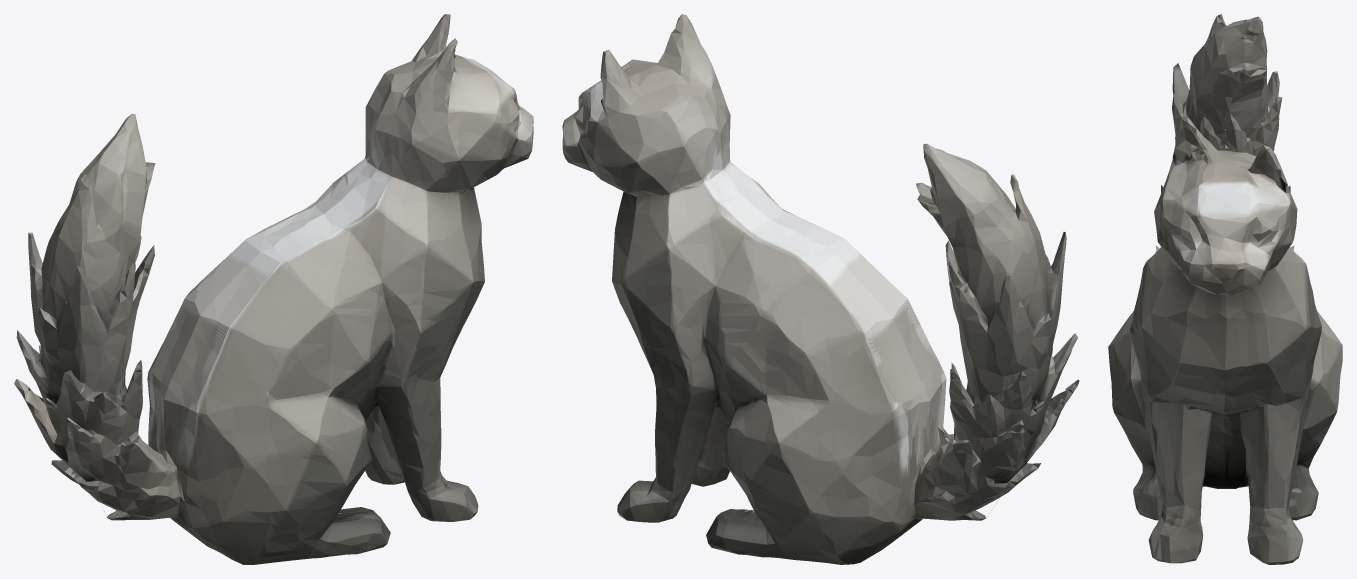
Rendered from 491f822a-da77-4a20-881f-afc021161837.glb.
3 views of the same model, side by side, from view 1: azimuth 30°, elevation 25°; view 2: azimuth 150°, elevation 25°; view 3: azimuth 270°, elevation 25° (orthographic). The views are drawn at different scales.
Parts seen in each view (by area): view 1: tmp_578la47.ply; view 2: tmp_578la47.ply; view 3: tmp_578la47.ply.
Boxes of the visible parts, x1,y1,x2,y2 form: tmp_578la47.ply: (14, 14, 533, 564); tmp_578la47.ply: (562, 14, 1079, 564); tmp_578la47.ply: (1108, 14, 1342, 564).
Bounding box in the file's own units: 1.95 × 1.79 × 0.8562.
Materials: 1 (1 with a texture image).
